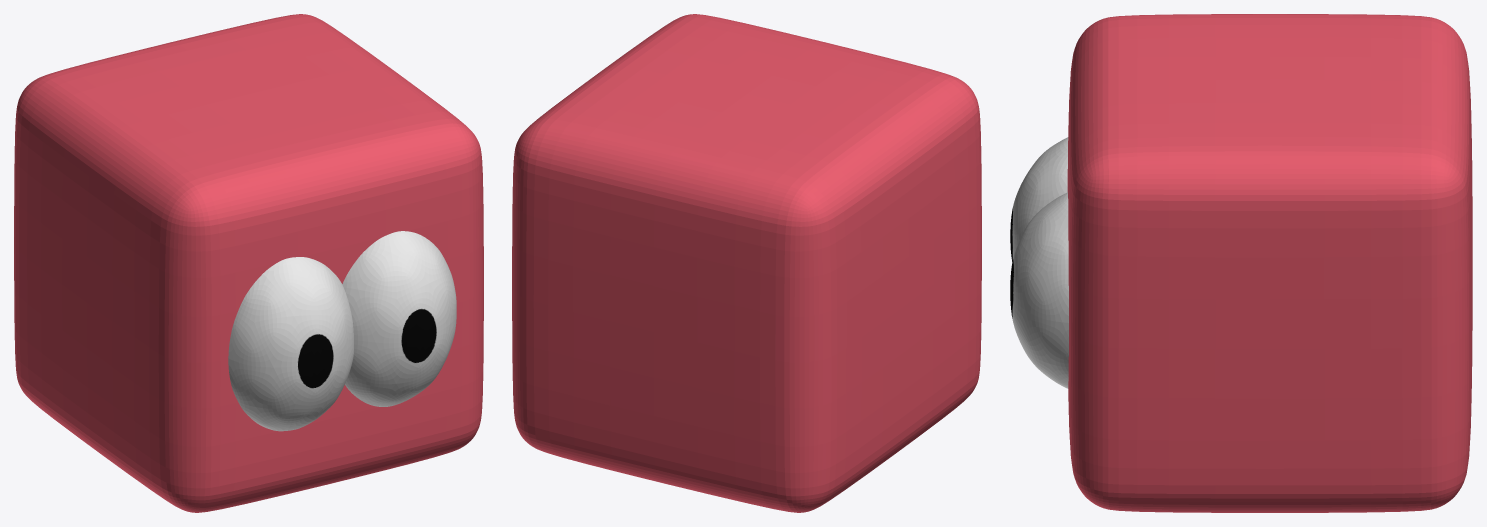
Rendered from Jelly.fbx.
The picture shows the model from 3 angles, left to right: view 1: azimuth 30°, elevation 25°; view 2: azimuth 150°, elevation 25°; view 3: azimuth 270°, elevation 25°; orthographic projection. The views are drawn at different scales.
Visible parts, largest first — view 1: Body, Eyes; view 2: Body; view 3: Body, Eyes.
Part boxes in pixels (x1,y1,x2,y2): Body: (14, 14, 483, 512); Eyes: (228, 231, 456, 431); Body: (512, 14, 981, 512); Body: (1067, 14, 1472, 512); Eyes: (1010, 137, 1068, 388).
Bounding box in the file's own units: 200 × 200 × 228.
